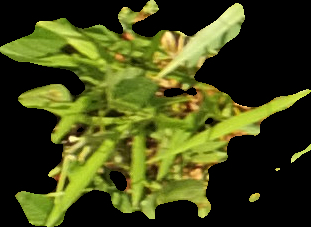grass: (1, 1, 309, 226)
